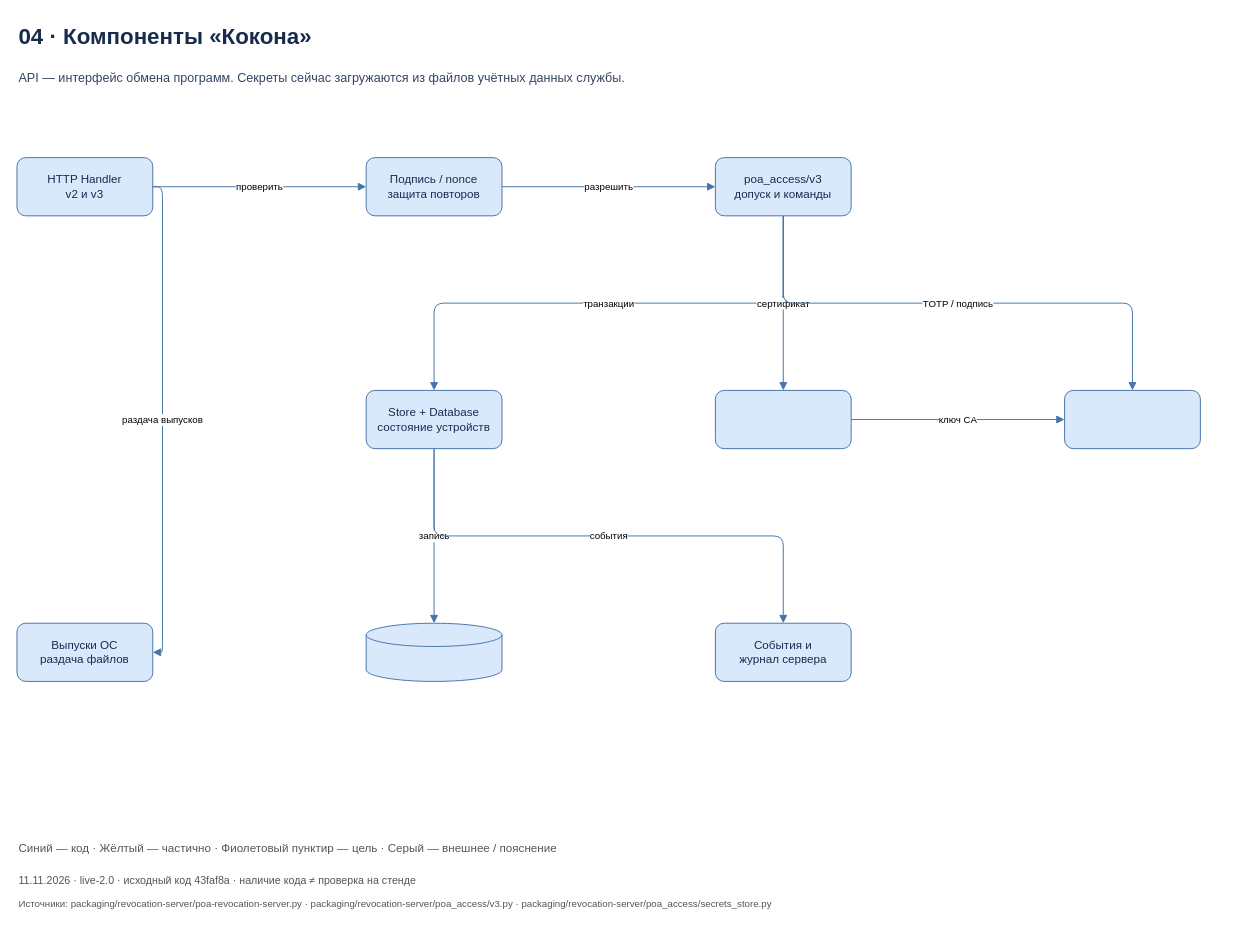
This 1237x945 diagram has some shape labels left out. Here are the shapes that lost their labels. From the top down, the centre of each, then its label:
(x=782, y=419): CA / CRL VPN-сертификаты
(x=1132, y=419): ServerSecrets ключи службы
(x=433, y=651): SQLite / PostgreSQL
